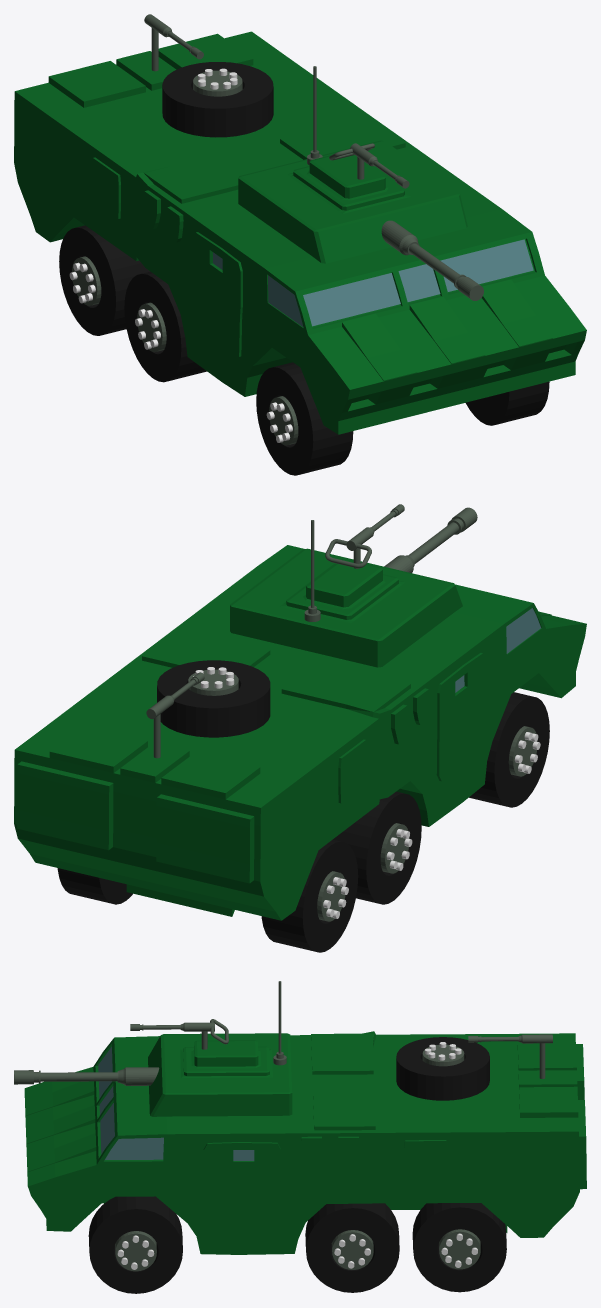
File: Mech. Inf..dae
The picture shows the model from 3 angles, top to bottom: view 1: azimuth 30°, elevation 25°; view 2: azimuth 150°, elevation 25°; view 3: azimuth 270°, elevation 25°; orthographic projection. The views are drawn at different scales.
Parts seen in each view (by area): view 1: Cube, Cube_001, Plane, tire, Circle_005, Circle_003, Circle_004, Circle, Cylinder, Plane_001, Cylinder_039, Cylinder_057 (+4 smaller); view 2: Cube, Cube_001, tire, Circle_004, Circle_003, Circle_005, Circle_002, Cylinder, Plane_001, Cylinder_040, Cylinder_039, Cylinder_057 (+4 smaller); view 3: Cube, Cube_001, Circle, Circle_001, Circle_002, tire, Cylinder, Plane_002, Cylinder_004, Cylinder_022, Cylinder_021, Plane (+4 smaller).
Boxes of the visible parts, box(x1,y1,x2,y2) form: Cube: box(14, 31, 586, 434); Cube_001: box(238, 140, 467, 263); Plane: box(303, 239, 533, 326); tire: box(162, 62, 273, 137); Circle_005: box(256, 362, 353, 475); Circle_003: box(59, 225, 149, 335); Circle_004: box(124, 271, 206, 382); Circle: box(465, 381, 549, 425); Cylinder: box(381, 220, 483, 300); Plane_001: box(268, 275, 303, 327); Cylinder_039: box(72, 256, 101, 305); Cylinder_057: box(269, 396, 298, 445); Cube: box(14, 545, 586, 920); Cube_001: box(230, 548, 462, 667); tire: box(157, 660, 270, 737); Circle_004: box(333, 791, 421, 904); Circle_003: box(261, 839, 358, 952); Circle_005: box(469, 692, 549, 807); Circle_002: box(57, 868, 132, 904); Cylinder: box(384, 507, 477, 572); Plane_001: box(506, 608, 540, 653); Cylinder_040: box(380, 823, 409, 873); Cylinder_039: box(317, 871, 345, 921); Cylinder_057: box(508, 726, 537, 776); Cube: box(24, 1031, 586, 1254); Cube_001: box(148, 1033, 292, 1116); Circle: box(88, 1196, 182, 1293); Circle_001: box(305, 1203, 399, 1292); Circle_002: box(412, 1203, 506, 1292); tire: box(396, 1037, 489, 1100); Cylinder: box(14, 1067, 159, 1085); Plane_002: box(105, 1137, 163, 1159); Cylinder_004: box(115, 1231, 156, 1271); Cylinder_022: box(439, 1229, 480, 1269); Cylinder_021: box(331, 1230, 373, 1269); Plane: box(98, 1046, 114, 1154).
Bounding box in the file's own units: 1.26 × 2.89 × 1.47.
